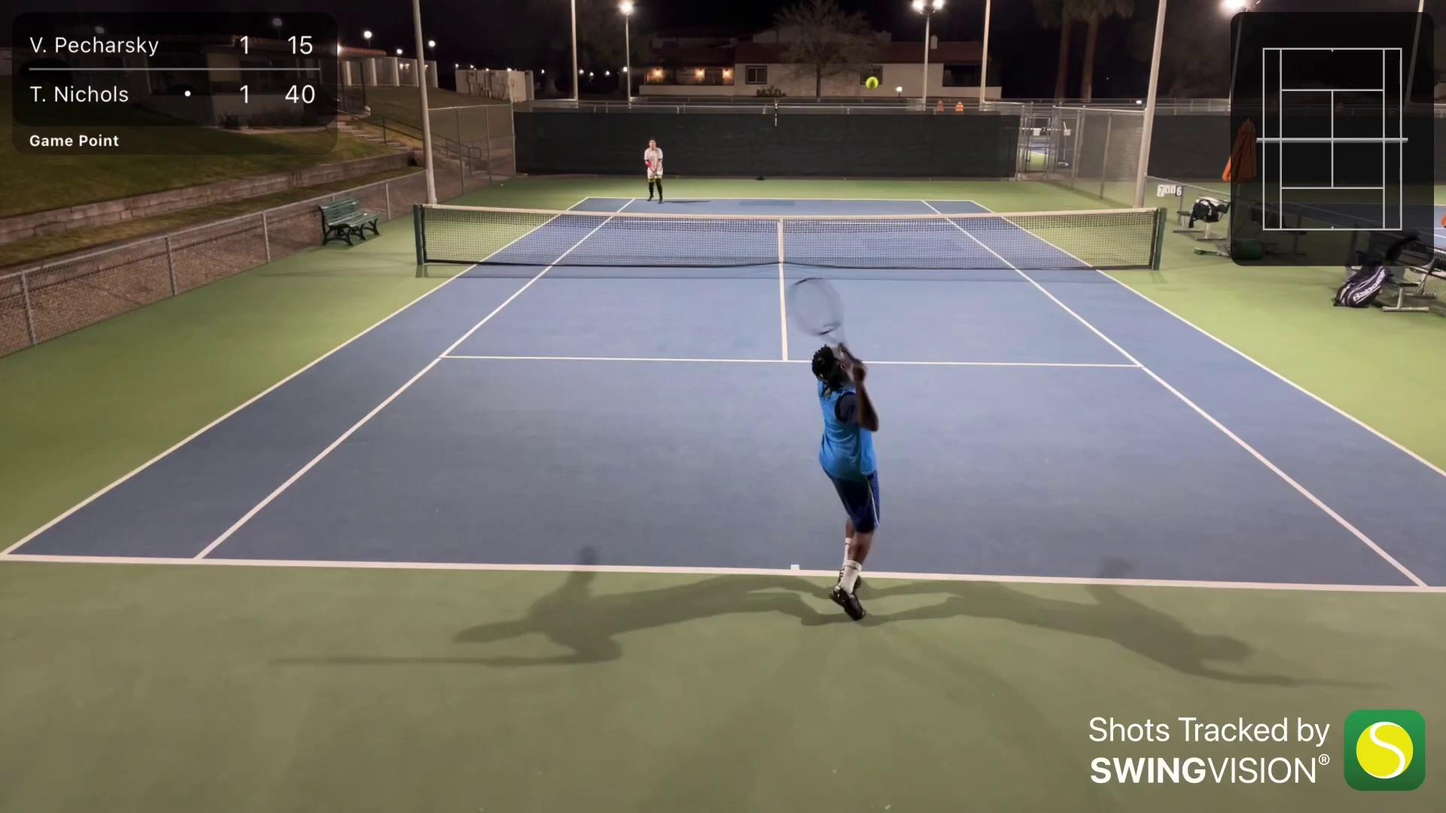ball: (864, 75, 881, 94)
